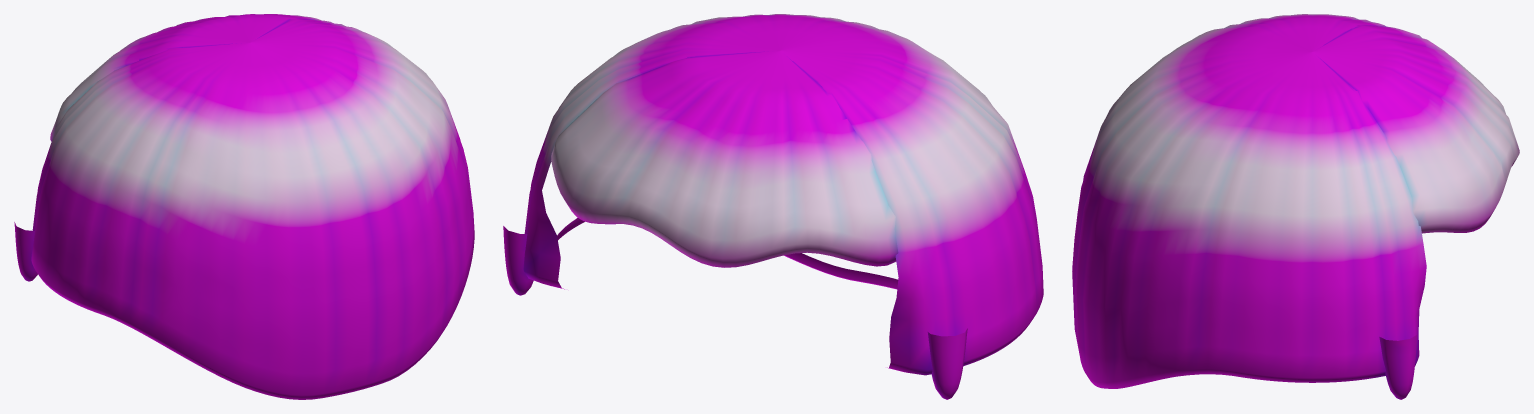
Rendered from buzz.glb.
The picture shows the model from 3 angles, left to right: view 1: azimuth 30°, elevation 25°; view 2: azimuth 150°, elevation 25°; view 3: azimuth 270°, elevation 25°; orthographic projection. The views are drawn at different scales.
Visible parts, largest first — view 1: buzz; view 2: buzz; view 3: buzz.
Boxes of the visible parts, x1,y1,x2,y2 form: buzz: (14,14,474,399); buzz: (503,14,1043,399); buzz: (1072,14,1519,399).
Size of the model in its own units: 0.8083 by 0.5356 by 0.7074.
